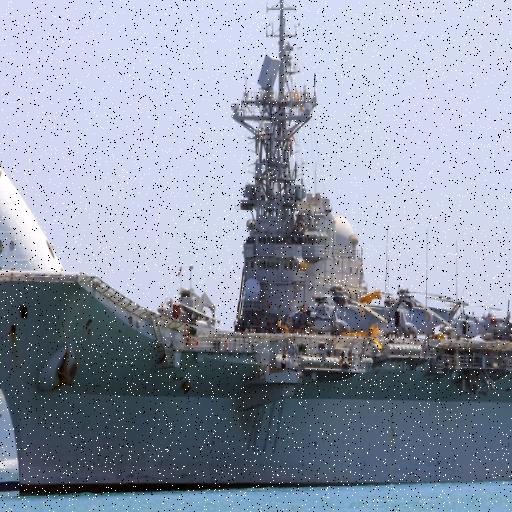Portanaves: (1, 1, 512, 503)
